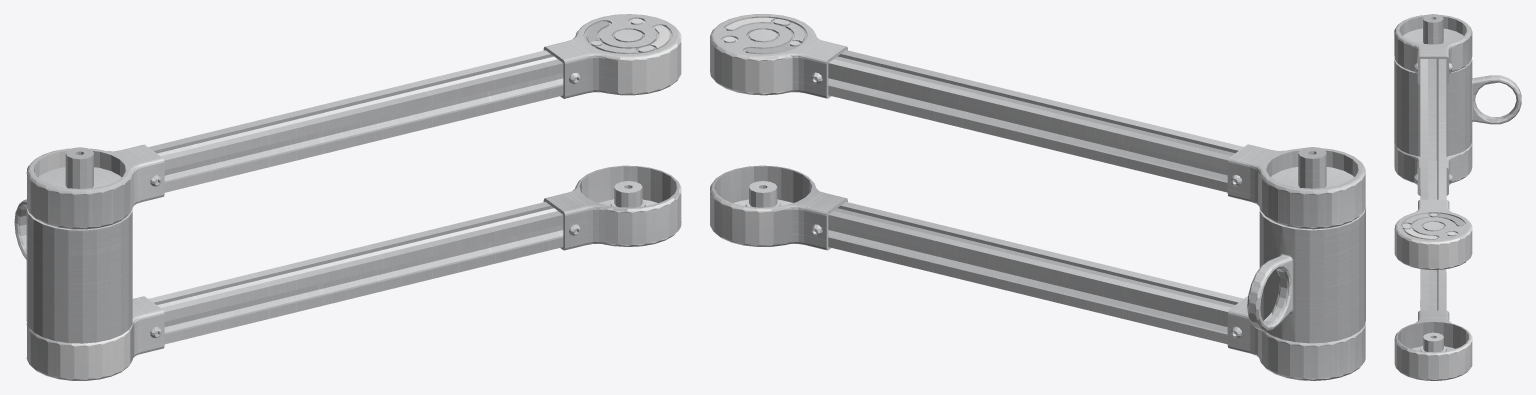
Rendered from upper_arm_tex.dae.
3 views of the same model, side by side, from view 1: azimuth 30°, elevation 25°; view 2: azimuth 150°, elevation 25°; view 3: azimuth 270°, elevation 25° (orthographic). The views are drawn at different scales.
Visible parts, largest first — view 1: Upper_Arm; view 2: Upper_Arm; view 3: Upper_Arm.
Boxes of the visible parts, bbox=[...] form: Upper_Arm: bbox=[14, 14, 681, 380]; Upper_Arm: bbox=[710, 14, 1365, 380]; Upper_Arm: bbox=[1394, 14, 1521, 380].
Size of the model in its own units: 0.2079 by 0.0489 by 0.064.
1 material, 1 textured.
